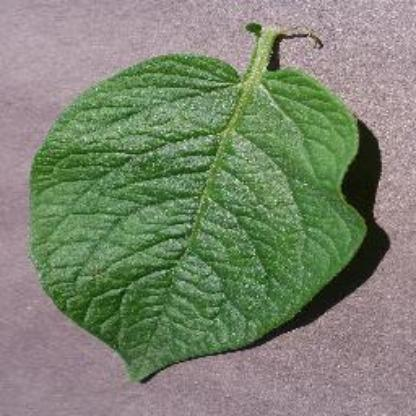Healthy-plant: (19, 13, 375, 382)
